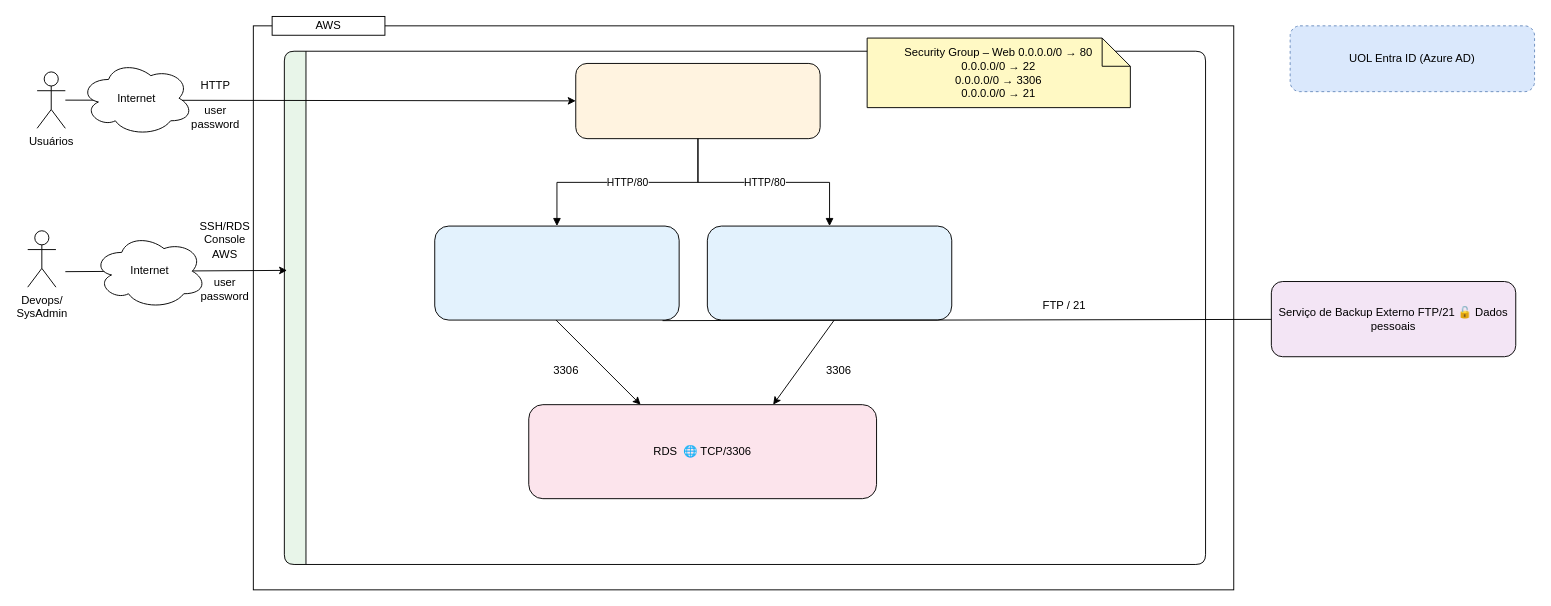
The diagram is 1551 pixels wide and 606 high, and some of its shapes have lost their labels. Here are the shapes that lost their labels. From the top down, the box of each, then its label:
(575, 63, 820, 139): ALB HTTP/80
(434, 225, 679, 320): EC2 Web-1 HTTP/80 🔓 SSH/22 🌐
(706, 225, 952, 320): EC2 Web-2 HTTP/80 🔓 SSH/22 🌐
(283, 50, 1206, 564): VPC – Web - Subnets Públicas
